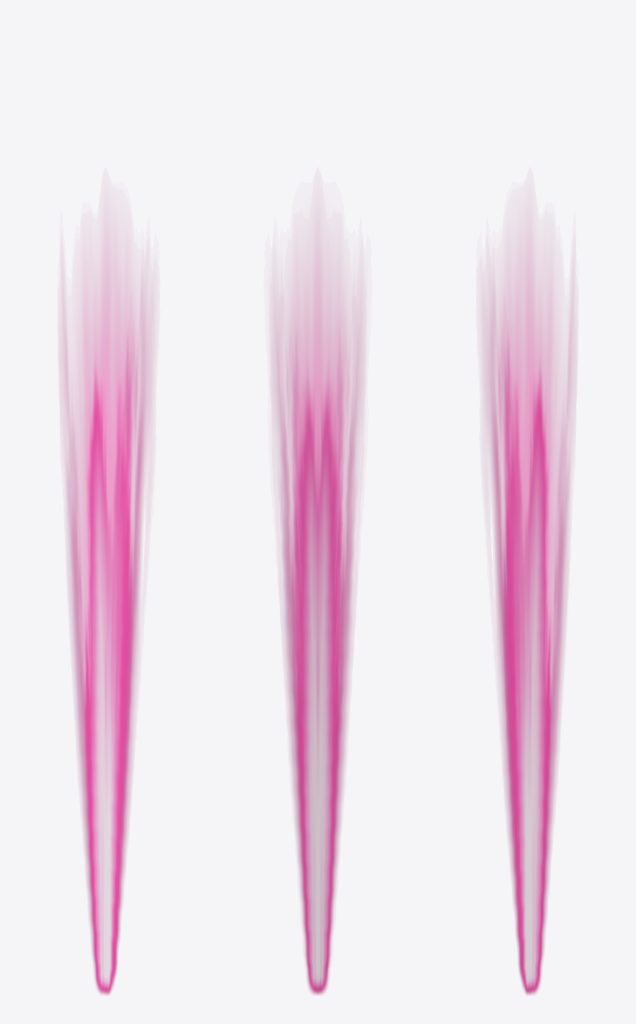
The model's file is trail_flame_rose.glb.
3 renders of one model, left to right at view 1: azimuth 30°, elevation 25°; view 2: azimuth 150°, elevation 25°; view 3: azimuth 270°, elevation 25°, orthographic.
Parts seen in each view (by area): view 1: flame; view 2: flame; view 3: flame.
Part boxes in pixels (x1=…): flame: x1=61, y1=224, x2=152, y2=994; flame: x1=272, y1=224, x2=363, y2=994; flame: x1=483, y1=224, x2=574, y2=994.
Bounding box in the file's own units: 11.8 × 58 × 10.22.
Materials: 1 (1 with a texture image).
